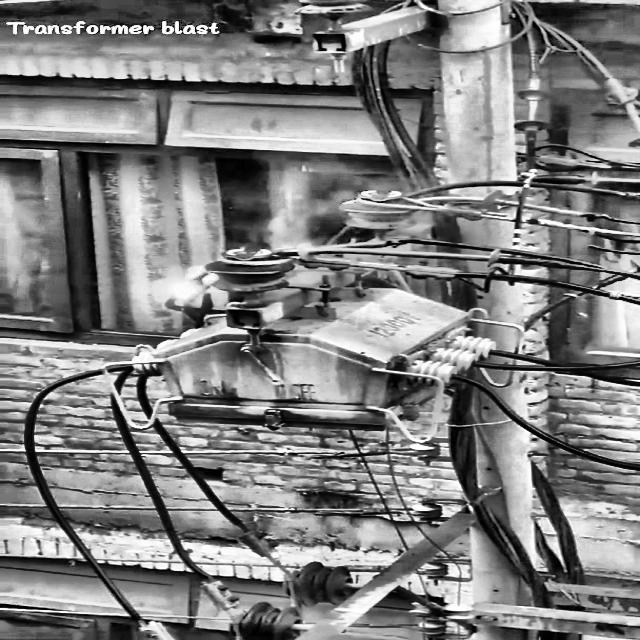Fire: (143, 266, 220, 312)
